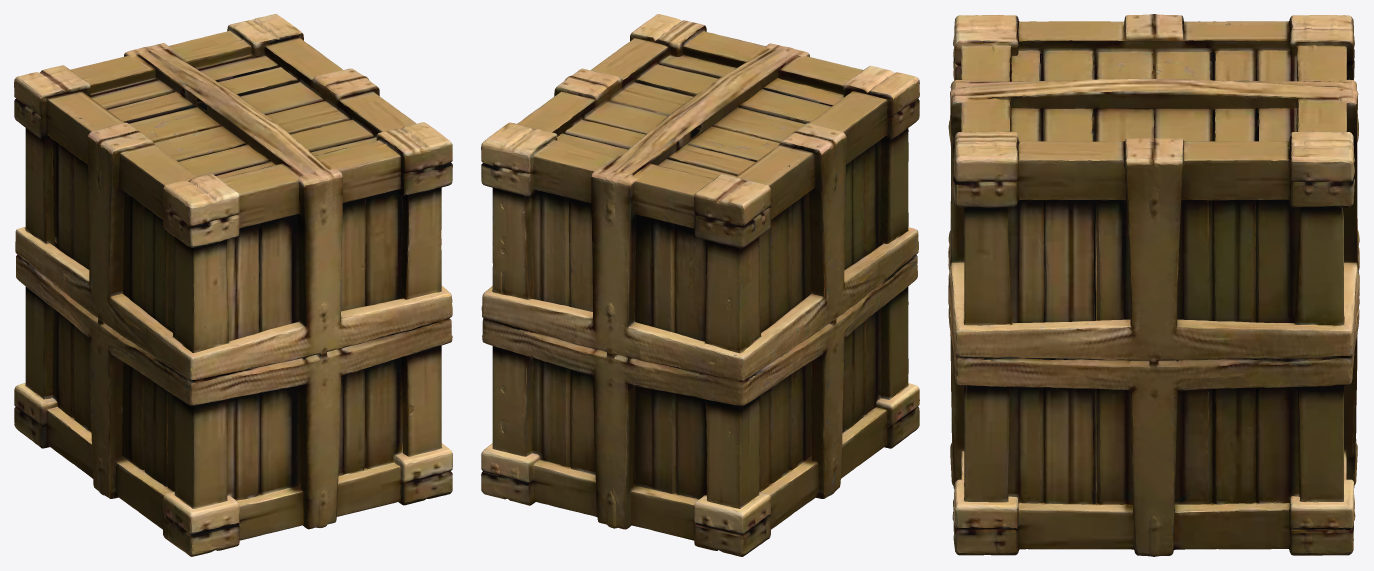
The model's file is prop_wood_crate_large_01.glb.
3 renders of one model, left to right at view 1: azimuth 30°, elevation 25°; view 2: azimuth 150°, elevation 25°; view 3: azimuth 270°, elevation 25°, orthographic. The views are drawn at different scales.
Parts seen in each view (by area): view 1: geometry_0; view 2: geometry_0; view 3: geometry_0.
Boxes of the visible parts, left/top/right/bottom form: geometry_0: left=14, top=14, right=452, bottom=556; geometry_0: left=481, top=14, right=919, bottom=556; geometry_0: left=948, top=14, right=1359, bottom=556.
Size of the model in its own units: 0.7789 by 1 by 0.9091.
1 material, 1 textured.
